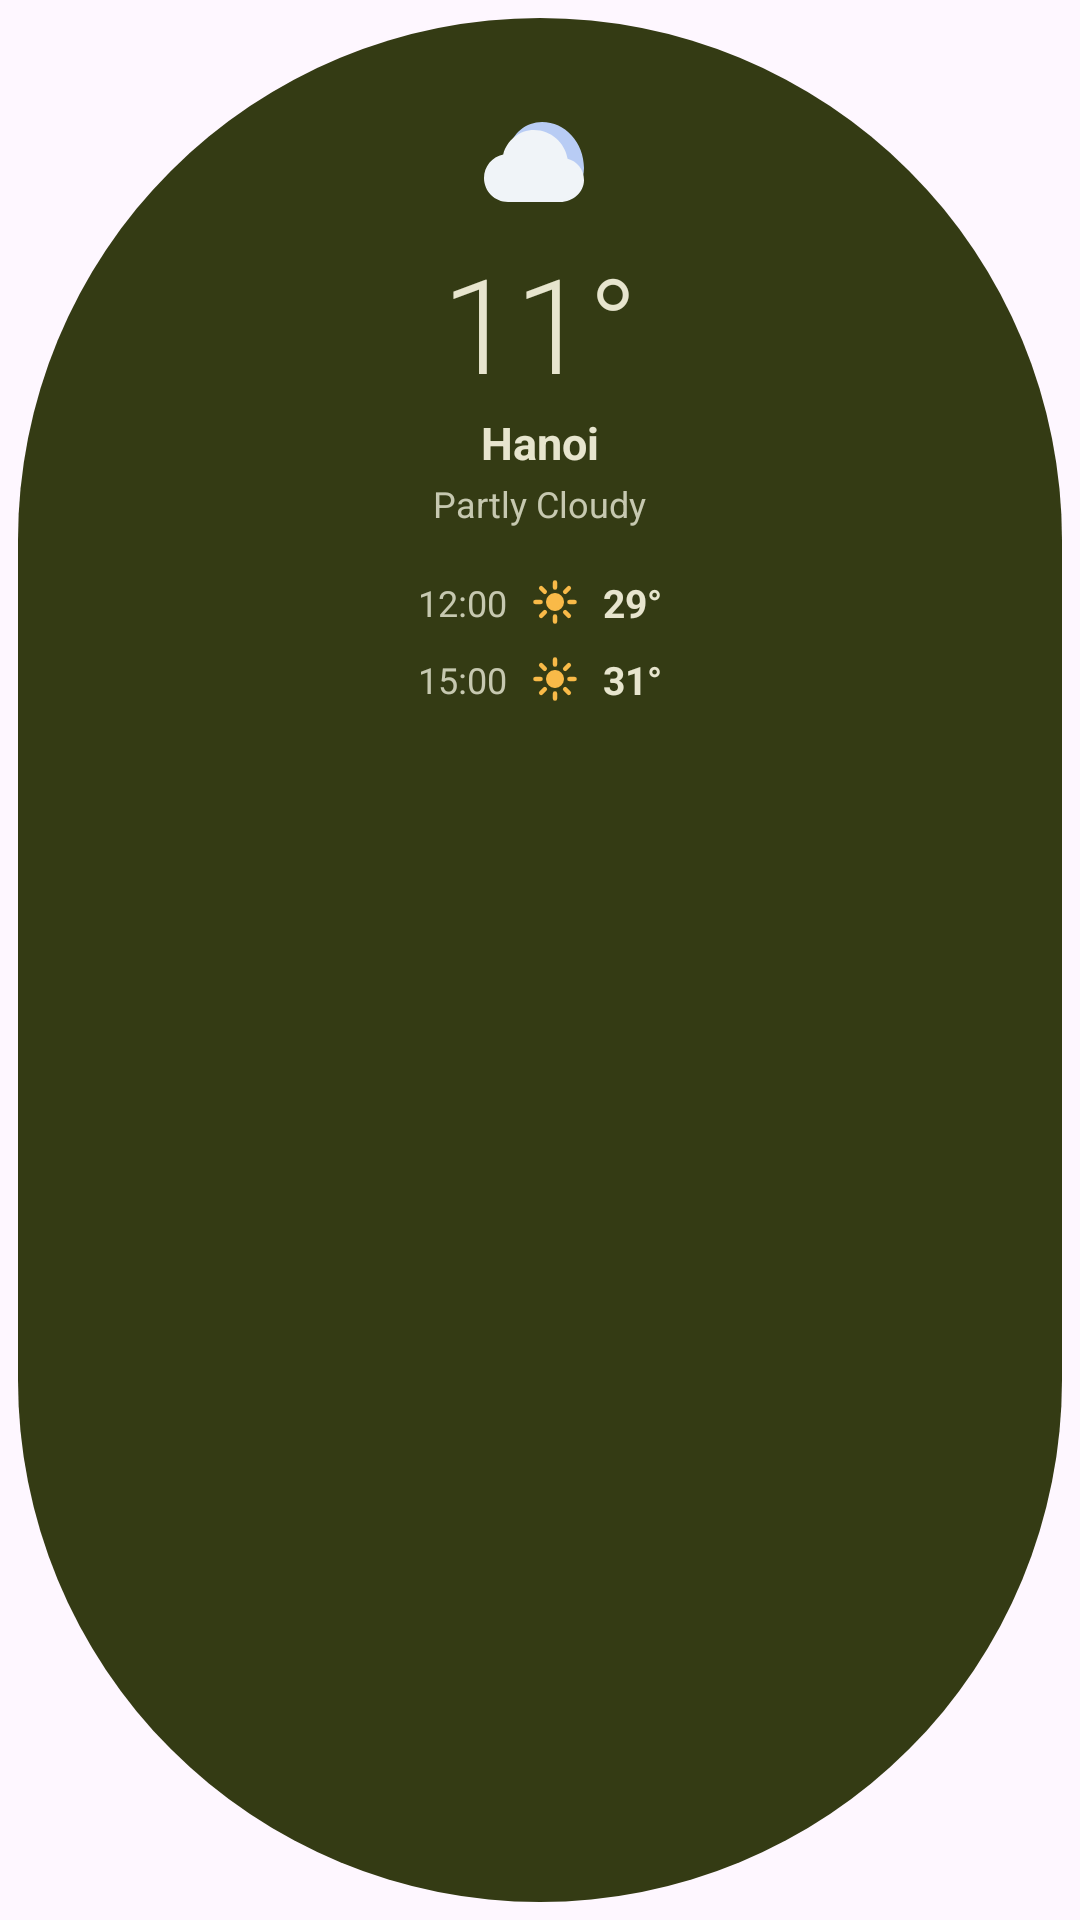

Point at icon controls on the screen. Image size 1080*1920, points as (x=x, y=y).
weather night cloudy: (x=534, y=162)
weather sunny: (x=555, y=602), (x=555, y=679)
